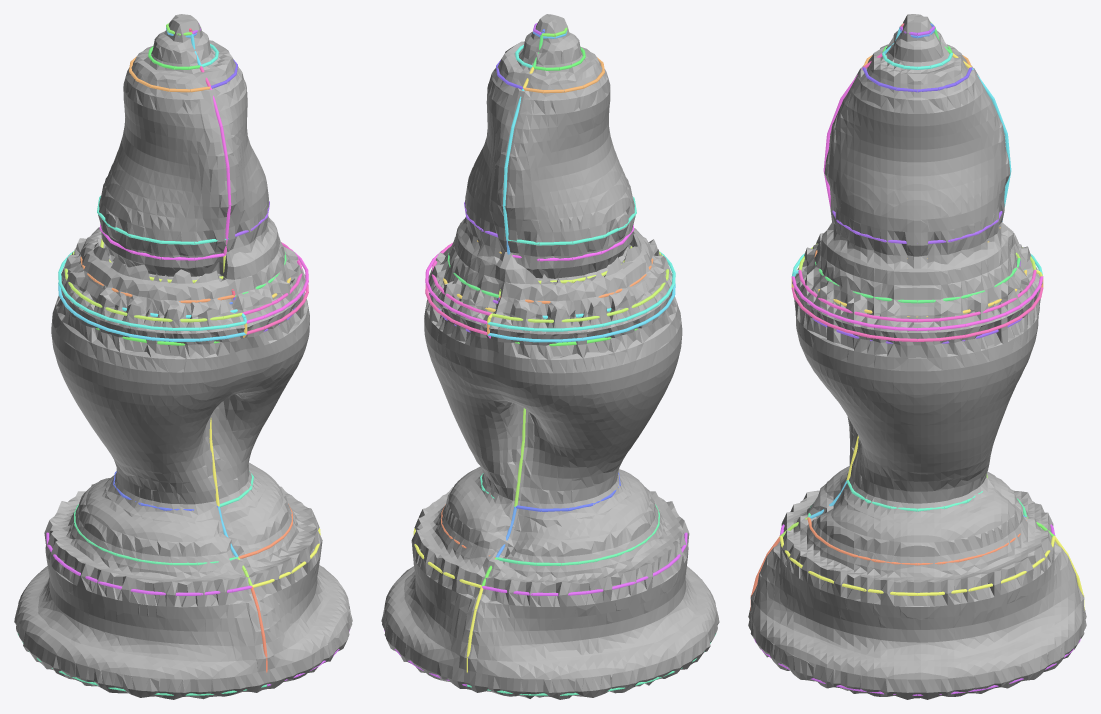
File: onshape_bishop.gltf
3 renders of one model, left to right at view 1: azimuth 30°, elevation 25°; view 2: azimuth 150°, elevation 25°; view 3: azimuth 270°, elevation 25°, orthographic.
Bounding box in the file's own units: 0.4171 × 0.8348 × 0.4167.
